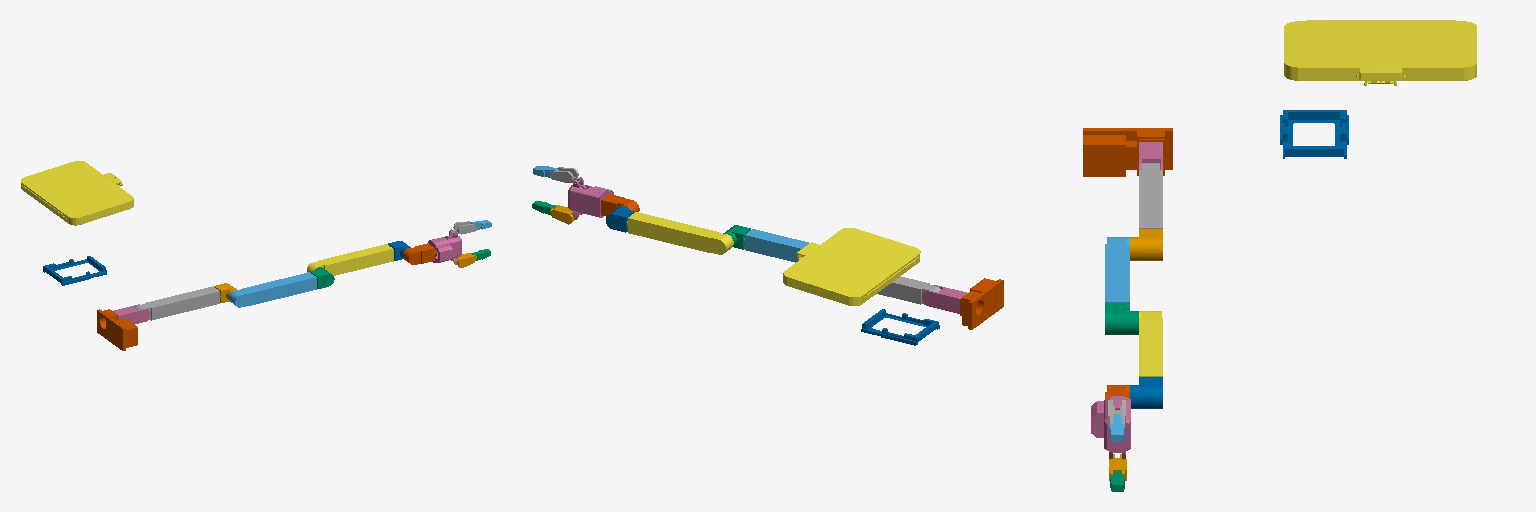
robot.urdf — MantisOnRackRViz:
<?xml version="1.0" ?>
<!-- =================================================================================== -->
<!-- |    This document was autogenerated by xacro from mantis_on_rack_robot.urdf.xacro | -->
<!-- |    EDITING THIS FILE BY HAND IS NOT RECOMMENDED                                 | -->
<!-- =================================================================================== -->
<robot name="MantisOnRackRViz" xmlns:controller="http://playerstage.sourceforge.net/gazebo/xmlschema/#controller" xmlns:interface="http://playerstage.sourceforge.net/gazebo/xmlschema/#interface" xmlns:sensor="http://playerstage.sourceforge.net/gazebo/xmlschema/#sensor" xmlns:xacro="http://www.ros.org/wiki/xacro">
  <link name="world"/>
  <joint name="base" type="fixed">
    <origin rpy="0 0 0" xyz="0 0 0"/>
    <parent link="world"/>
    <child link="robot_base"/>
  </joint>
  <link name="robot_base">
    <static>false</static>
  </link>
  <link name="express_rack">
    <inertial>
      <mass value="10.0"/>
      <inertia ixx="1.857343821996639" ixy="6.2983660131078E-05" ixz="-3.19177822902163E-05" iyy="2.9174970781523" iyz="-8.19713905978223E-05" izz="1.76131215859239"/>
    </inertial>
    <visual>
      <origin rpy="0 0 0" xyz="0 0 0"/>
      <geometry>
        <mesh filename="package://mantis_on_rack/meshes/Express_Rack.dae"/>
      </geometry>
    </visual>
    <!--
            <collision>
                <origin xyz="0 0 0" rpy="0 0 0" />
                <geometry>
                    <mesh filename="package://mantis_on_rack/meshes/Express_Rack.dae" />
                </geometry>
            </collision> -->
  </link>
  <link name="merlin_door">
    <inertial>
      <mass value="1.0"/>
      <inertia ixx="0.857343821996639" ixy="6.2983660131078E-05" ixz="-3.19177822902163E-05" iyy="0.9174970781523" iyz="-8.19713905978223E-05" izz="0.76131215859239"/>
    </inertial>
    <visual>
      <origin rpy="0 0 0" xyz="0 0 0"/>
      <geometry>
        <mesh filename="package://mantis_on_rack/meshes/merlin_door.dae"/>
      </geometry>
    </visual>
    <!-- collision>
                <origin xyz="0 0 0" rpy="0 0 0" />
                <geometry>
                    <mesh filename="package://mantis_on_rack/meshes/merlin_door.dae" />
                </geometry>
            </collision -->
  </link>
  <gazebo reference="merlin_door">
    <material>
                Gazebo/Green
            </material>
    <implicitSpringDamper>1</implicitSpringDamper>
  </gazebo>
  <joint name="merlin_hinge" type="revolute">
    <origin rpy="1.5 0 0" xyz="0.62 1.5805 -1.1"/>
    <parent link="express_rack"/>
    <child link="merlin_door"/>
    <axis xyz="1 0 0"/>
    <limit effort="1000.0" lower="-1.5" upper="0" velocity="0.25"/>
    <dynamics damping="0.55" friction="0.55"/>
  </joint>
  <link name="nanoracks_drawer">
    <inertial>
      <mass value="1.0"/>
      <inertia ixx="0.857343821996639" ixy="6.2983660131078E-05" ixz="-3.19177822902163E-05" iyy="0.9174970781523" iyz="-8.19713905978223E-05" izz="0.76131215859239"/>
    </inertial>
    <visual>
      <origin rpy="0 0 0" xyz="0 0 0"/>
      <geometry>
        <mesh filename="package://mantis_on_rack/meshes/plate_drawer.dae"/>
      </geometry>
    </visual>
    <!-- collision>
                <origin xyz="0 0 0" rpy="0 0 0" />
                <geometry>
                    <mesh filename="package://mantis_on_rack/meshes/plate_drawer.dae" />
                </geometry>
            </collision -->
  </link>
  <gazebo reference="nanoracks_drawer">
    <material>
                Gazebo/Green
            </material>
    <implicitSpringDamper>1</implicitSpringDamper>
  </gazebo>
  <joint name="nanoracks_tray" type="prismatic">
    <!--origin xyz="0.74 1.375 -1.1" rpy="0 0 0" / -->
    <origin rpy="0 0 0" xyz="0.61344 1.38387 -1.13303"/>
    <axis xyz="0 0 1"/>
    <parent link="express_rack"/>
    <child link="nanoracks_drawer"/>
    <limit effort="1000.0" lower="-0.20" upper="0" velocity="0.25"/>
    <dynamics damping="0.55" friction="0.55"/>
  </joint>
  <joint name="j2b0" type="fixed">
    <origin rpy="-1.57079632679 -3.14159265358979 -1.57079632679" xyz="0 -0.035 0"/>
    <parent link="robot_base"/>
    <child link="express_rack"/>
    <axis xyz="0 0 0"/>
  </joint>
  <transmission name="nanoracks_tray_transmission">
    <type>transmission_interface/SimpleTransmission</type>
    <joint name="nanoracks_tray">
      <hardwareInterface>EffortJointInterface</hardwareInterface>
    </joint>
    <actuator name="nanoracks_tray_motor">
      <hardwareInterface>EffortJointInterface</hardwareInterface>
    </actuator>
  </transmission>
  <!-- Add the two lockers that we have for now  -->
  <!--     <xacro:include filename="$(find mantis_on_rack)/urdf/objects/ISS_Locker.xacro" />
    <xacro:locker_link link_name="mantis_locker"/>
    <xacro:locker_link link_name="nanoracks_locker"/>

	<joint name="j2b1" type="fixed">
		<origin xyz="0 -0.035 0" rpy="-1.57079632679 -3.14159265358979 0" />
		<parent link="express_rack" />
		<child link="mantis_locker" />
		<axis xyz="0 0 0" />
	</joint>

	<joint name="j2b2" type="fixed">
		<origin xyz="-0.5 -0.035 0" rpy="-1.57079632679 -3.14159265358979 0" />
		<parent link="express_rack" />
		<child link="nanoracks_locker" />
		<axis xyz="0 0 0" />
	</joint>
-->
  <!-- ################################# -->
  <!--        Xacro Initialization       -->
  <!-- ################################# -->
  <!-- ========PROPERTIES======= -->
  <!-- xacro:property name="pi" value="3.1415926535" / -->
  <!-- measured to edge +2mm gap -->
  <!-- In Modified DH Parameters, the d values are expressed as distances along the Z axis of the ith joint
                 But the joint offset vectors defined below are defined from the (i-1) axes. So the d values
            are not applied with consistent signage or along the same axes.
    -->
  <!-- ################################# -->
  <!-- ========MACROS======= -->
  <!-- ################################# -->
  <!--              Links                -->
  <!-- ################################# -->
  <!-- ======== Fixed Base ======== -->
  <!-- These inertial values are rough estimates -->
  <link name="base_link">
    <visual>
      <origin rpy="0 0 0" xyz="0 0 0"/>
      <geometry>
        <mesh filename="package://mantis/meshes/base.dae"/>
      </geometry>
    </visual>
    <inertial>
      <mass value="0.400"/>
      <inertia ixx="0.08000" ixy="0.001" ixz="0.001" iyy="0.05000" iyz="0.002" izz="0.06000"/>
    </inertial>
  </link>
  <link name="B1">
    <visual>
      <origin rpy="0 0 0" xyz="0 0 0"/>
      <geometry>
        <mesh filename="package://mantis/meshes/B1.dae"/>
      </geometry>
    </visual>
    <inertial>
      <mass value="0.175"/>
      <inertia ixx="0.000586" ixy="0" ixz="0" iyy="0.000579" iyz="0" izz="0.000068"/>
    </inertial>
  </link>
  <link name="B2">
    <visual>
      <origin rpy="0 0 0" xyz="0 0 0"/>
      <geometry>
        <mesh filename="package://mantis/meshes/B2.dae"/>
      </geometry>
    </visual>
    <inertial>
      <mass value="0.383"/>
      <inertia ixx="0.008240" ixy="0" ixz="0" iyy="0.000117" iyz="0" izz="0.008234"/>
    </inertial>
  </link>
  <link name="B3">
    <visual>
      <origin rpy="0 0 0" xyz="0 0 0"/>
      <geometry>
        <mesh filename="package://mantis/meshes/B3.dae"/>
      </geometry>
    </visual>
    <inertial>
      <mass value="0.320"/>
      <inertia ixx="0.000272" ixy="0" ixz="0" iyy="0.000101" iyz="0" izz="0.000303"/>
    </inertial>
  </link>
  <link name="B4">
    <visual>
      <origin rpy="0 0 0" xyz="0 0 0"/>
      <geometry>
        <mesh filename="package://mantis/meshes/B4.dae"/>
      </geometry>
    </visual>
    <inertial>
      <mass value="0.383"/>
      <inertia ixx="0.008240" ixy="0" ixz="0" iyy="0.000117" iyz="0" izz="0.008234"/>
    </inertial>
  </link>
  <link name="B5">
    <visual>
      <origin rpy="0 0 0" xyz="0 0 0"/>
      <geometry>
        <mesh filename="package://mantis/meshes/B5.dae"/>
      </geometry>
    </visual>
    <inertial>
      <mass value="0.320"/>
      <inertia ixx="0.000272" ixy="0" ixz="0" iyy="0.000101" iyz="0" izz="0.000303"/>
    </inertial>
  </link>
  <link name="B6">
    <visual>
      <origin rpy="0 0 0" xyz="0 0 0"/>
      <geometry>
        <mesh filename="package://mantis/meshes/B6.dae"/>
      </geometry>
    </visual>
    <inertial>
      <mass value="0.383"/>
      <inertia ixx="0.008240" ixy="0" ixz="0" iyy="0.000117" iyz="0" izz="0.008234"/>
    </inertial>
  </link>
  <link name="B7">
    <visual>
      <origin rpy="0 0 0" xyz="0 0 0"/>
      <geometry>
        <mesh filename="package://mantis/meshes/B7.dae"/>
      </geometry>
    </visual>
    <inertial>
      <mass value="0.320"/>
      <inertia ixx="0.000272" ixy="0" ixz="0" iyy="0.000101" iyz="0" izz="0.000303"/>
    </inertial>
  </link>
  <link name="B8">
    <visual>
      <origin rpy="0 0 0" xyz="0 0 0"/>
      <geometry>
        <mesh filename="package://mantis/meshes/B8.dae"/>
      </geometry>
    </visual>
    <inertial>
      <mass value="0.150"/>
      <inertia ixx="0.000586" ixy="0" ixz="0" iyy="0.000068" iyz="0" izz="0.000579"/>
    </inertial>
  </link>
  <link name="Palm">
    <visual>
      <origin rpy="0 0 0" xyz="0 0 0"/>
      <geometry>
        <mesh filename="package://mantis/meshes/gripper/palm.dae"/>
      </geometry>
    </visual>
    <collision>
      <origin rpy="0 0 0" xyz="0 0 0"/>
      <geometry>
        <mesh filename="package://mantis/meshes/gripper/palm.dae"/>
      </geometry>
    </collision>
    <inertial>
      <mass value="0.400"/>
      <inertia ixx="0.5000" ixy="0.000" ixz="0.00" iyy="0.5000" iyz="0.00" izz="0.6000"/>
    </inertial>
  </link>
  <link name="Proximal_L">
    <visual>
      <origin rpy="0 0 0" xyz="0 0 0"/>
      <geometry>
        <mesh filename="package://mantis/meshes/gripper/proximal_L.dae"/>
      </geometry>
    </visual>
    <collision>
      <origin rpy="0 0 0" xyz="0 0 0"/>
      <geometry>
        <mesh filename="package://mantis/meshes/gripper/proximal_L.dae"/>
      </geometry>
    </collision>
    <inertial>
      <mass value="0.010"/>
      <inertia ixx="0.0006" ixy="0.0" ixz="0.0" iyy="0.0002" iyz="0.0" izz="0.0006"/>
    </inertial>
  </link>
  <link name="Proximal_R">
    <visual>
      <origin rpy="0 0 0" xyz="0 0 0"/>
      <geometry>
        <mesh filename="package://mantis/meshes/gripper/proximal_R.dae"/>
      </geometry>
    </visual>
    <collision>
      <origin rpy="0 0 0" xyz="0 0 0"/>
      <geometry>
        <mesh filename="package://mantis/meshes/gripper/proximal_R.dae"/>
      </geometry>
    </collision>
    <inertial>
      <mass value="0.010"/>
      <inertia ixx="0.0006" ixy="0.0" ixz="0.0" iyy="0.0002" iyz="0.0" izz="0.0006"/>
    </inertial>
  </link>
  <link name="Distal_L">
    <visual>
      <origin rpy="0 0 0" xyz="0 0 0"/>
      <geometry>
        <mesh filename="package://mantis/meshes/gripper/distal_L.dae"/>
      </geometry>
    </visual>
    <collision>
      <origin rpy="0 0 0" xyz="0 0 0"/>
      <geometry>
        <mesh filename="package://mantis/meshes/gripper/distal_L.dae"/>
      </geometry>
    </collision>
    <inertial>
      <mass value="0.010"/>
      <inertia ixx="0.0006" ixy="0.0" ixz="0.0" iyy="0.0002" iyz="0.0" izz="0.0006"/>
    </inertial>
  </link>
  <link name="Distal_R">
    <visual>
      <origin rpy="0 0 0" xyz="0 0 0"/>
      <geometry>
        <mesh filename="package://mantis/meshes/gripper/distal_R.dae"/>
      </geometry>
    </visual>
    <collision>
      <origin rpy="0 0 0" xyz="0 0 0"/>
      <geometry>
        <mesh filename="package://mantis/meshes/gripper/distal_R.dae"/>
      </geometry>
    </collision>
    <inertial>
      <mass value="0.010"/>
      <inertia ixx="0.0006" ixy="0.0" ixz="0.0" iyy="0.0002" iyz="0.0" izz="0.0006"/>
    </inertial>
  </link>
  <!-- ################################# -->
  <!-- ################################# -->
  <!--             Joints                -->
  <!-- ################################# -->
  <!-- ======== Joint 0 (fixed) ========
        This joint places the arm within the global environment
        using this file's arguments env_base and origin
    -->
  <joint name="anchor" type="fixed">
    <origin rpy="0 0 1.57079632679" xyz="0.4 1.35 -1.12"/>
    <parent link="express_rack"/>
    <child link="base_link"/>
  </joint>
  <joint name="J1_roll" type="continuous">
    <parent link="base_link"/>
    <child link="B1"/>
    <origin rpy="0 0 0" xyz="0 0 0.129"/>
    <axis xyz="0 0 1">
      <dynamics damping="0.25" friction="0.25"/>
    </axis>
    <limit effort="30.0" velocity="10"/>
  </joint>
  <joint name="J2_pitch" type="continuous">
    <parent link="B1"/>
    <child link="B2"/>
    <origin rpy="-1.57079632679 0 0" xyz="0 0 0"/>
    <axis xyz="0 0 1">
      <dynamics damping="0.25" friction="0.25"/>
    </axis>
    <limit effort="30.0" velocity="10"/>
  </joint>
  <joint name="J3_roll" type="continuous">
    <parent link="B2"/>
    <child link="B3"/>
    <origin rpy="1.57079632679 0 0" xyz="0 -0.29 0"/>
    <axis xyz="0 0 1">
      <dynamics damping="0.25" friction="0.25"/>
    </axis>
    <limit effort="30.0" velocity="10"/>
  </joint>
  <joint name="J4_pitch" type="continuous">
    <parent link="B3"/>
    <child link="B4"/>
    <origin rpy="-1.57079632679 0 0" xyz="0 0.056 0"/>
    <axis xyz="0 0 1">
      <dynamics damping="0.25" friction="0.25"/>
    </axis>
    <limit effort="30.0" velocity="10"/>
  </joint>
  <joint name="J5_roll" type="continuous">
    <parent link="B4"/>
    <child link="B5"/>
    <origin rpy="1.57079632679 0 0" xyz="0 -0.29 0"/>
    <axis xyz="0 0 1">
      <dynamics damping="0.25" friction="0.25"/>
    </axis>
    <limit effort="30.0" velocity="10"/>
  </joint>
  <joint name="J6_pitch" type="continuous">
    <parent link="B5"/>
    <child link="B6"/>
    <origin rpy="-1.57079632679 0 0" xyz="0 -0.056 0"/>
    <axis xyz="0 0 1">
      <dynamics damping="0.25" friction="0.25"/>
    </axis>
    <limit effort="30.0" velocity="10"/>
  </joint>
  <joint name="J7_roll" type="continuous">
    <parent link="B6"/>
    <child link="B7"/>
    <origin rpy="1.57079632679 0 0" xyz="0 -0.29 0"/>
    <axis xyz="0 0 1">
      <dynamics damping="0.25" friction="0.25"/>
    </axis>
    <limit effort="30.0" velocity="10"/>
  </joint>
  <joint name="J8_pitch" type="continuous">
    <parent link="B7"/>
    <child link="B8"/>
    <origin rpy="-1.57079632679 0 0" xyz="0 0.056 0"/>
    <axis xyz="0 0 1">
      <dynamics damping="0.25" friction="0.25"/>
    </axis>
    <limit effort="30.0" velocity="10"/>
  </joint>
  <joint name="J9_wrist" type="continuous">
    <parent link="B8"/>
    <child link="Palm"/>
    <origin rpy="1.57079632679 0 0" xyz="0 -0.067 0"/>
    <axis xyz="0 0 1">
      <dynamics damping="0.25" friction="0.25"/>
    </axis>
    <limit effort="30.0" velocity="10"/>
  </joint>
  <joint name="J1_L_wrist" type="continuous">
    <parent link="Palm"/>
    <child link="Proximal_L"/>
    <origin rpy="-1.57079632679 0 0" xyz=" 0.04334 0 0.071569"/>
    <axis xyz="0 0 1">
      <dynamics damping="0.25" friction="0.25"/>
    </axis>
    <limit effort="30.0" velocity="10"/>
  </joint>
  <joint name="J1_R_wrist" type="continuous">
    <parent link="Palm"/>
    <child link="Proximal_R"/>
    <origin rpy="-1.57079632679 0 0" xyz="-0.04334 0 0.071569"/>
    <axis xyz="0 0 1">
      <dynamics damping="0.25" friction="0.25"/>
    </axis>
    <limit effort="30.0" velocity="10"/>
  </joint>
  <joint name="J2_L_wrist" type="continuous">
    <parent link="Proximal_L"/>
    <child link="Distal_L"/>
    <origin rpy="0 0 0" xyz=" 0 -0.06789 0 "/>
    <axis xyz="0 0 1">
      <dynamics damping="0.25" friction="0.25"/>
    </axis>
    <limit effort="30.0" velocity="10"/>
  </joint>
  <joint name="J2_R_wrist" type="continuous">
    <parent link="Proximal_R"/>
    <child link="Distal_R"/>
    <origin rpy="0 0 0" xyz=" 0 -0.06789 0 "/>
    <axis xyz="0 0 1">
      <dynamics damping="0.25" friction="0.25"/>
    </axis>
    <limit effort="30.0" velocity="10"/>
  </joint>
  <!-- ################################# -->
  <!--             PLUGINS               -->
  <!-- ################################# -->
  <gazebo>
    <plugin filename="libgazebo_ros_control.so" name="gazebo_ros_control">
      <robotNamespace>/mantis</robotNamespace>
    </plugin>
  </gazebo>
  <!-- ################################# -->
  <transmission name="J1_roll_transmission">
    <type>transmission_interface/SimpleTransmission</type>
    <joint name="J1_roll">
      <hardwareInterface>EffortJointInterface</hardwareInterface>
    </joint>
    <actuator name="J1_roll_motor">
      <hardwareInterface>EffortJointInterface</hardwareInterface>
    </actuator>
  </transmission>
  <transmission name="J2_pitch_transmission">
    <type>transmission_interface/SimpleTransmission</type>
    <joint name="J2_pitch">
      <hardwareInterface>EffortJointInterface</hardwareInterface>
    </joint>
    <actuator name="J2_pitch_motor">
      <hardwareInterface>EffortJointInterface</hardwareInterface>
    </actuator>
  </transmission>
  <transmission name="J3_roll_transmission">
    <type>transmission_interface/SimpleTransmission</type>
    <joint name="J3_roll">
      <hardwareInterface>EffortJointInterface</hardwareInterface>
    </joint>
    <actuator name="J3_roll_motor">
      <hardwareInterface>EffortJointInterface</hardwareInterface>
    </actuator>
  </transmission>
  <transmission name="J4_pitch_transmission">
    <type>transmission_interface/SimpleTransmission</type>
    <joint name="J4_pitch">
      <hardwareInterface>EffortJointInterface</hardwareInterface>
    </joint>
    <actuator name="J4_pitch_motor">
      <hardwareInterface>EffortJointInterface</hardwareInterface>
    </actuator>
  </transmission>
  <transmission name="J5_roll_transmission">
    <type>transmission_interface/SimpleTransmission</type>
    <joint name="J5_roll">
      <hardwareInterface>EffortJointInterface</hardwareInterface>
    </joint>
    <actuator name="J5_roll_motor">
      <hardwareInterface>EffortJointInterface</hardwareInterface>
    </actuator>
  </transmission>
  <transmission name="J6_pitch_transmission">
    <type>transmission_interface/SimpleTransmission</type>
    <joint name="J6_pitch">
      <hardwareInterface>EffortJointInterface</hardwareInterface>
    </joint>
    <actuator name="J6_pitch_motor">
      <hardwareInterface>EffortJointInterface</hardwareInterface>
    </actuator>
  </transmission>
  <transmission name="J7_roll_transmission">
    <type>transmission_interface/SimpleTransmission</type>
    <joint name="J7_roll">
      <hardwareInterface>EffortJointInterface</hardwareInterface>
    </joint>
    <actuator name="J7_roll_motor">
      <hardwareInterface>EffortJointInterface</hardwareInterface>
    </actuator>
  </transmission>
  <transmission name="J8_pitch_transmission">
    <type>transmission_interface/SimpleTransmission</type>
    <joint name="J8_pitch">
      <hardwareInterface>EffortJointInterface</hardwareInterface>
    </joint>
    <actuator name="J8_pitch_motor">
      <hardwareInterface>EffortJointInterface</hardwareInterface>
    </actuator>
  </transmission>
  <transmission name="J9_wrist_transmission">
    <type>transmission_interface/SimpleTransmission</type>
    <joint name="J9_wrist">
      <hardwareInterface>EffortJointInterface</hardwareInterface>
    </joint>
    <actuator name="J9_wrist_motor">
      <hardwareInterface>EffortJointInterface</hardwareInterface>
    </actuator>
  </transmission>
  <transmission name="J1_L_wrist_transmission">
    <type>transmission_interface/SimpleTransmission</type>
    <joint name="J1_L_wrist">
      <hardwareInterface>EffortJointInterface</hardwareInterface>
    </joint>
    <actuator name="J1_L_wrist_motor">
      <hardwareInterface>EffortJointInterface</hardwareInterface>
    </actuator>
  </transmission>
  <transmission name="J1_R_wrist_transmission">
    <type>transmission_interface/SimpleTransmission</type>
    <joint name="J1_R_wrist">
      <hardwareInterface>EffortJointInterface</hardwareInterface>
    </joint>
    <actuator name="J1_R_wrist_motor">
      <hardwareInterface>EffortJointInterface</hardwareInterface>
    </actuator>
  </transmission>
  <!-- Friction
        Detailed description needed-->
  <!-- ################################# -->
  <!--           Materials               -->
  <!-- ################################# -->
  <gazebo reference="base_link">
    <material>
            Gazebo/Black
        </material>
    <implicitSpringDamper>1</implicitSpringDamper>
    <mu1>100000</mu1>
    <mu2>100000</mu2>
    <kp>100.0</kp>
    <kd>0.01</kd>
  </gazebo>
  <gazebo reference="B1">
    <material>
            Gazebo/DarkGrey
        </material>
    <implicitSpringDamper>1</implicitSpringDamper>
    <mu1>100000</mu1>
    <mu2>100000</mu2>
    <kp>100.0</kp>
    <kd>0.01</kd>
  </gazebo>
  <gazebo reference="B2">
    <material>
            Gazebo/Grey
        </material>
    <implicitSpringDamper>1</implicitSpringDamper>
    <mu1>100000</mu1>
    <mu2>100000</mu2>
    <kp>100.0</kp>
    <kd>0.01</kd>
  </gazebo>
  <gazebo reference="B3">
    <material>
            Gazebo/DarkGrey
        </material>
    <implicitSpringDamper>1</implicitSpringDamper>
    <mu1>100000</mu1>
    <mu2>100000</mu2>
    <kp>100.0</kp>
    <kd>0.01</kd>
  </gazebo>
  <gazebo reference="B4">
    <material>
            Gazebo/Grey
        </material>
    <implicitSpringDamper>1</implicitSpringDamper>
    <mu1>100000</mu1>
    <mu2>100000</mu2>
    <kp>100.0</kp>
    <kd>0.01</kd>
  </gazebo>
  <gazebo reference="B5">
    <material>
            Gazebo/DarkGrey
        </material>
    <implicitSpringDamper>1</implicitSpringDamper>
    <mu1>100000</mu1>
    <mu2>100000</mu2>
    <kp>100.0</kp>
    <kd>0.01</kd>
  </gazebo>
  <gazebo reference="B6">
    <material>
            Gazebo/Grey
        </material>
    <implicitSpringDamper>1</implicitSpringDamper>
    <mu1>100000</mu1>
    <mu2>100000</mu2>
    <kp>100.0</kp>
    <kd>0.01</kd>
  </gazebo>
  <gazebo reference="B7">
    <material>
            Gazebo/DarkGrey
        </material>
    <implicitSpringDamper>1</implicitSpringDamper>
    <mu1>100000</mu1>
    <mu2>100000</mu2>
    <kp>100.0</kp>
    <kd>0.01</kd>
  </gazebo>
  <gazebo reference="B8">
    <material>
            Gazebo/Grey
        </material>
    <implicitSpringDamper>1</implicitSpringDamper>
    <mu1>100000</mu1>
    <mu2>100000</mu2>
    <kp>100.0</kp>
    <kd>0.01</kd>
  </gazebo>
  <gazebo reference="Hand">
    <material>
            Gazebo/SkyBlue
        </material>
    <implicitSpringDamper>1</implicitSpringDamper>
    <mu1>100000</mu1>
    <mu2>100000</mu2>
    <kp>100.0</kp>
    <kd>0.01</kd>
  </gazebo>
  <gazebo reference="Plate">
    <material>
            Gazebo/Turquoise
        </material>
    <implicitSpringDamper>1</implicitSpringDamper>
    <mu1>100000</mu1>
    <mu2>100000</mu2>
    <kp>100.0</kp>
    <kd>0.01</kd>
  </gazebo>
  <!-- ################################# -->
  <!-- <origin xyz="0.4 1.35 -1.12" rpy="0 0 1.57079632679" /> -->
</robot>

--- What the picture shows (computed from the rendered views, not written in the file) ---
Views: 3 orthographic renders of the robot side by side, from view 1: azimuth 30°, elevation 25°; view 2: azimuth 150°, elevation 25°; view 3: azimuth 270°, elevation 25°.
Model MantisOnRackRViz with 19 links and 18 joints (1 revolute, 13 continuous, 1 prismatic, 3 fixed), rooted at world, posed every joint at zero.
Links seen in each view (by area): view 1: merlin_door, B4, B6, B2, base_link, nanoracks_drawer, Palm, B8; view 2: merlin_door, B6, base_link, B4, nanoracks_drawer, Palm, B2, B1; view 3: merlin_door, base_link, nanoracks_drawer, B4, B6, B2, Palm, B5, B3, B7, B1.
Boxes of the visible links, box(x1,y1,x2,y2) form: merlin_door: box(21, 161, 133, 225); B4: box(229, 272, 316, 307); B6: box(307, 244, 393, 275); B2: box(135, 286, 220, 320); base_link: box(97, 309, 137, 350); nanoracks_drawer: box(43, 256, 106, 285); Palm: box(428, 229, 461, 263); B8: box(403, 243, 436, 264); merlin_door: box(783, 228, 920, 305); B6: box(627, 212, 733, 254); base_link: box(960, 278, 1003, 329); B4: box(744, 229, 808, 262); nanoracks_drawer: box(861, 309, 939, 345); Palm: box(568, 177, 613, 218); B2: box(877, 276, 940, 304); B1: box(922, 285, 967, 313); merlin_door: box(1284, 20, 1476, 85); base_link: box(1083, 128, 1172, 176); nanoracks_drawer: box(1280, 110, 1348, 158); B4: box(1105, 237, 1129, 302); B6: box(1139, 311, 1162, 376); B2: box(1139, 163, 1162, 228); Palm: box(1091, 396, 1130, 458); B5: box(1105, 303, 1138, 334); B3: box(1130, 229, 1162, 260); B7: box(1130, 377, 1162, 408); B1: box(1139, 142, 1162, 169).
Size in the robot's own frame: 1.27 by 0.6538 by 0.3185 metres.
Meshes: 17 distinct files referenced, 16 mesh visuals loaded (16 Collada DAE); not drawn: 1 (reference not matched to a file when rendering).
